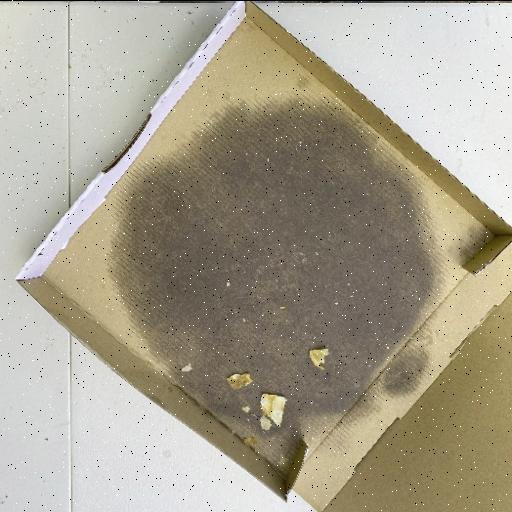Cardboard: (14, 2, 510, 509)
